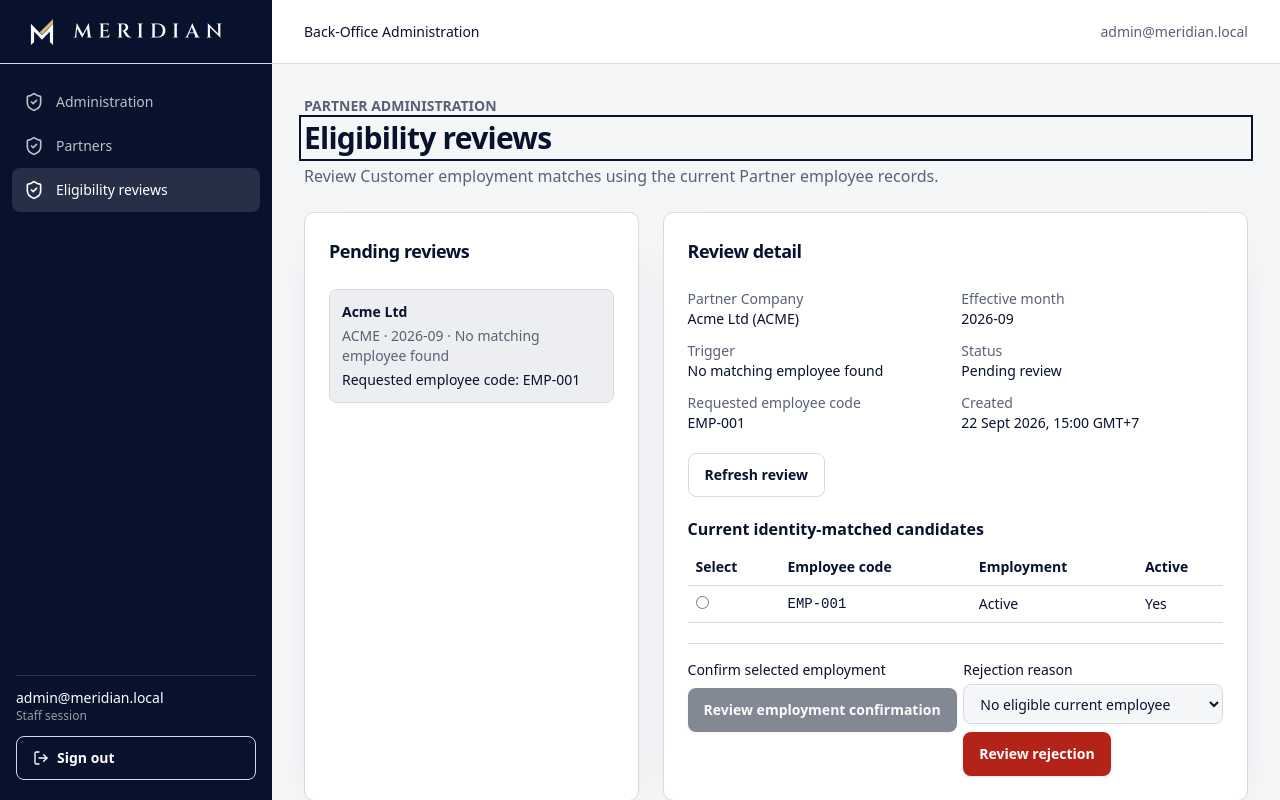
Test: Partner eligibility review page › confirms safe approval facts before sending the existing decision body
Click the radio button named "Select EMP-001".
click(702, 602)  # box [696,596,708,609]
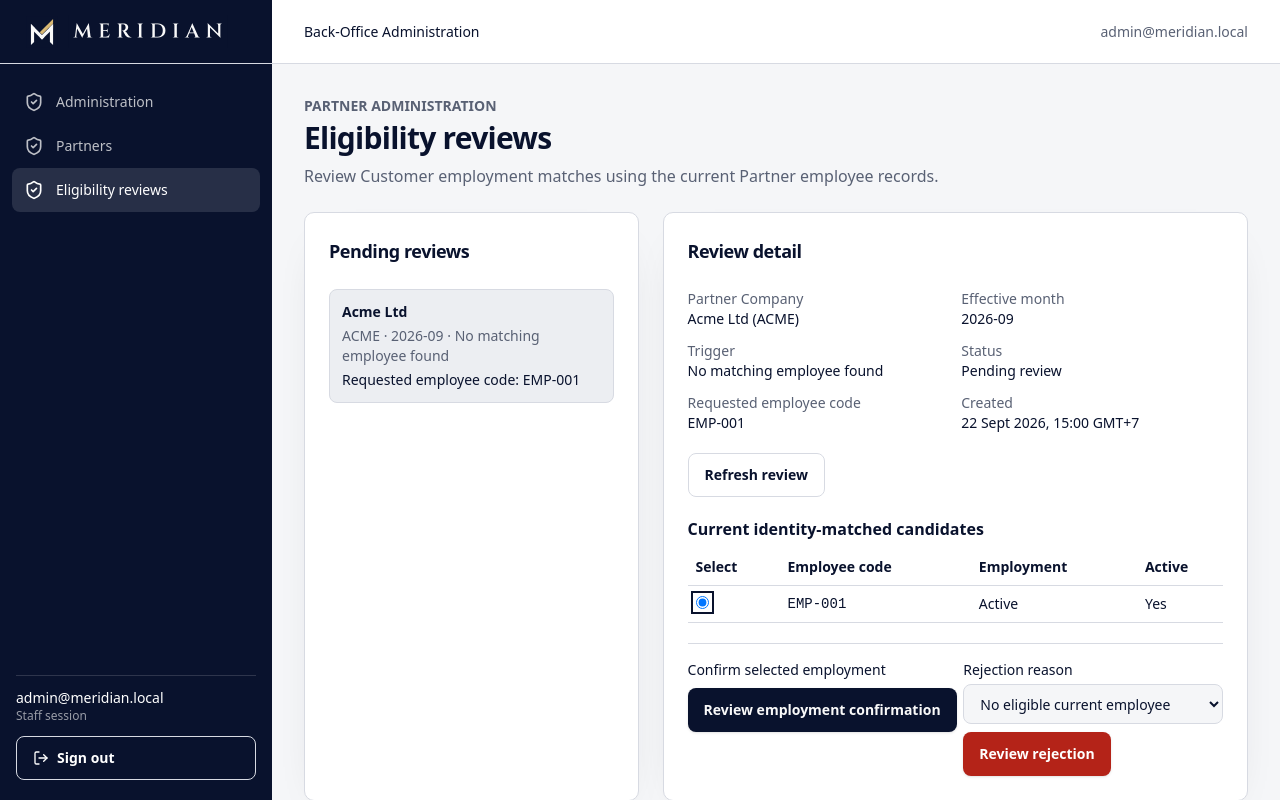
Click the button "Review employment confirmation".
click(822, 710)  # box [688,688,957,732]
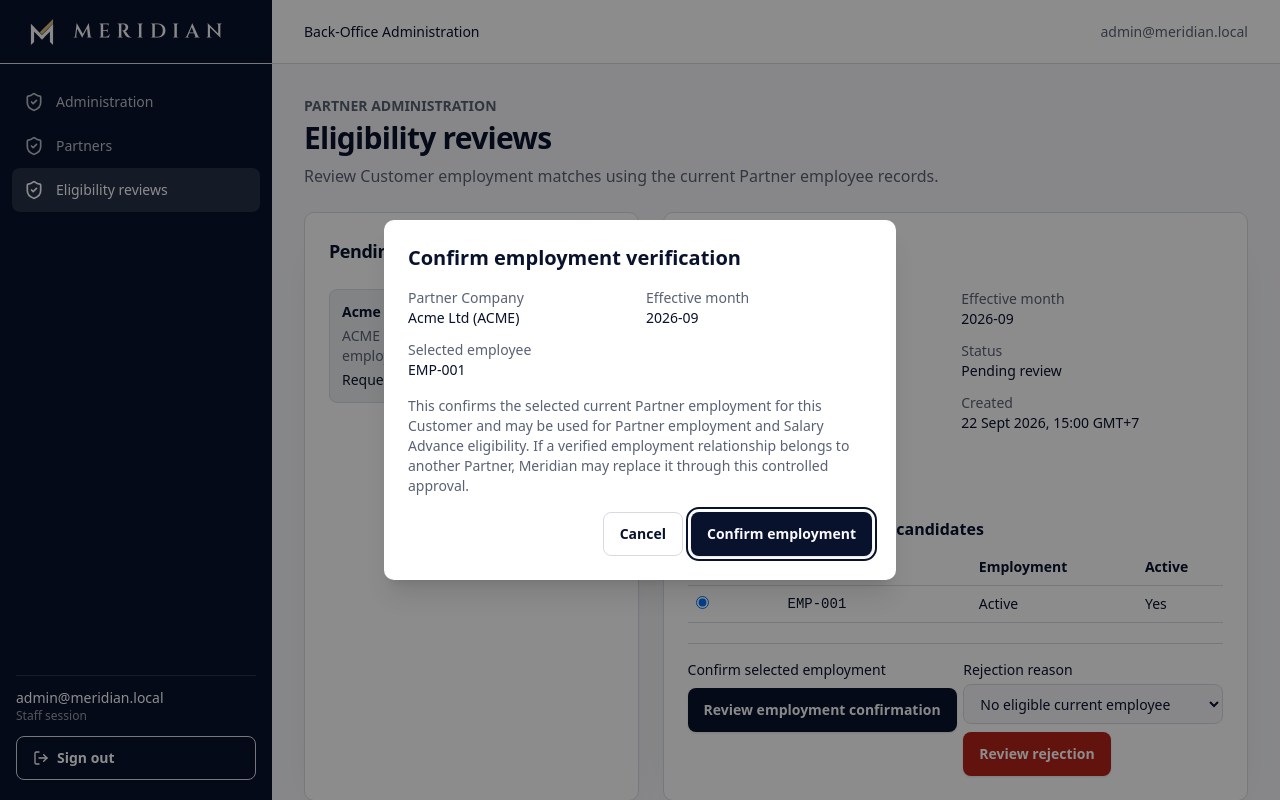
Now the dialog "Confirm employment verification" is shown, box [384,220,896,580]
Now the text "Acme Ltd (ACME)" is shown, box [408,308,519,327]
Now the text "EMP-001" is shown, box [408,360,466,379]
Click the button "Cancel".
click(643, 534)  # box [603,512,683,556]
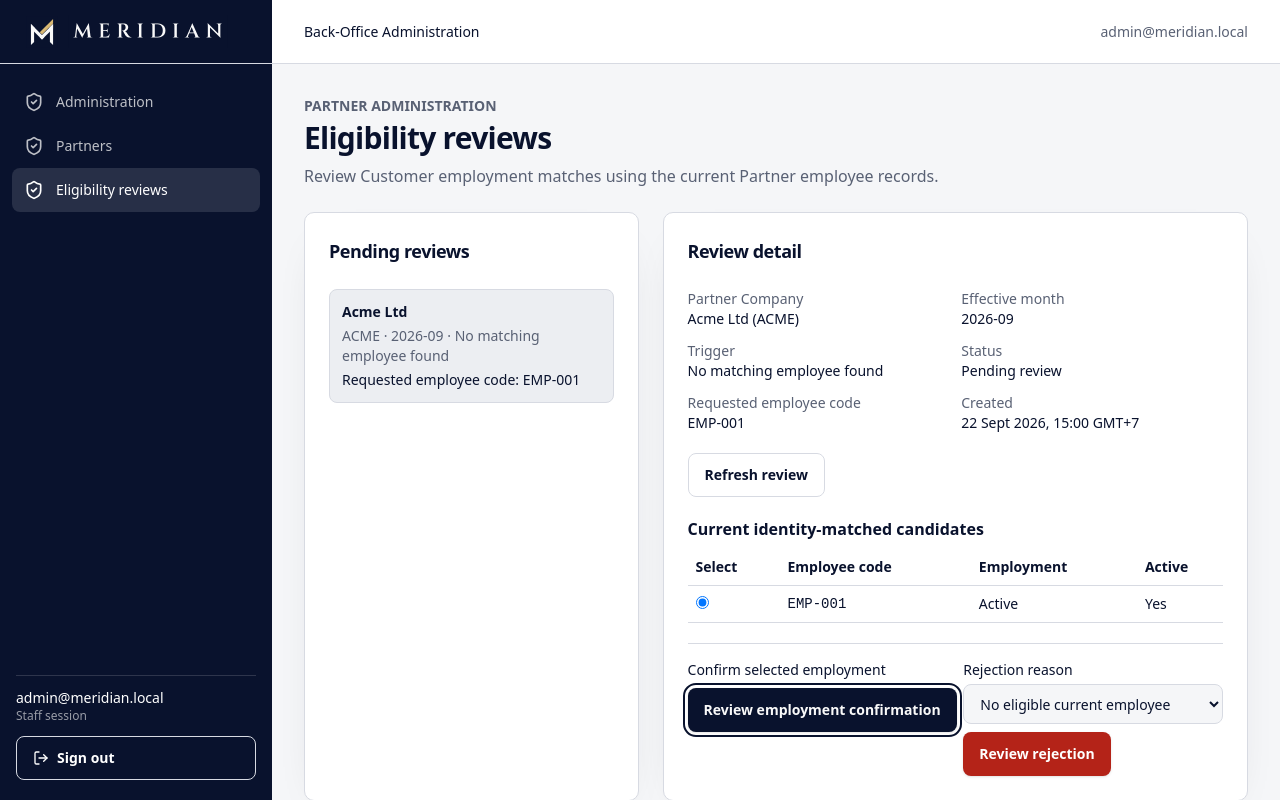
Click the button "Review employment confirmation".
click(822, 710)  # box [688,688,957,732]
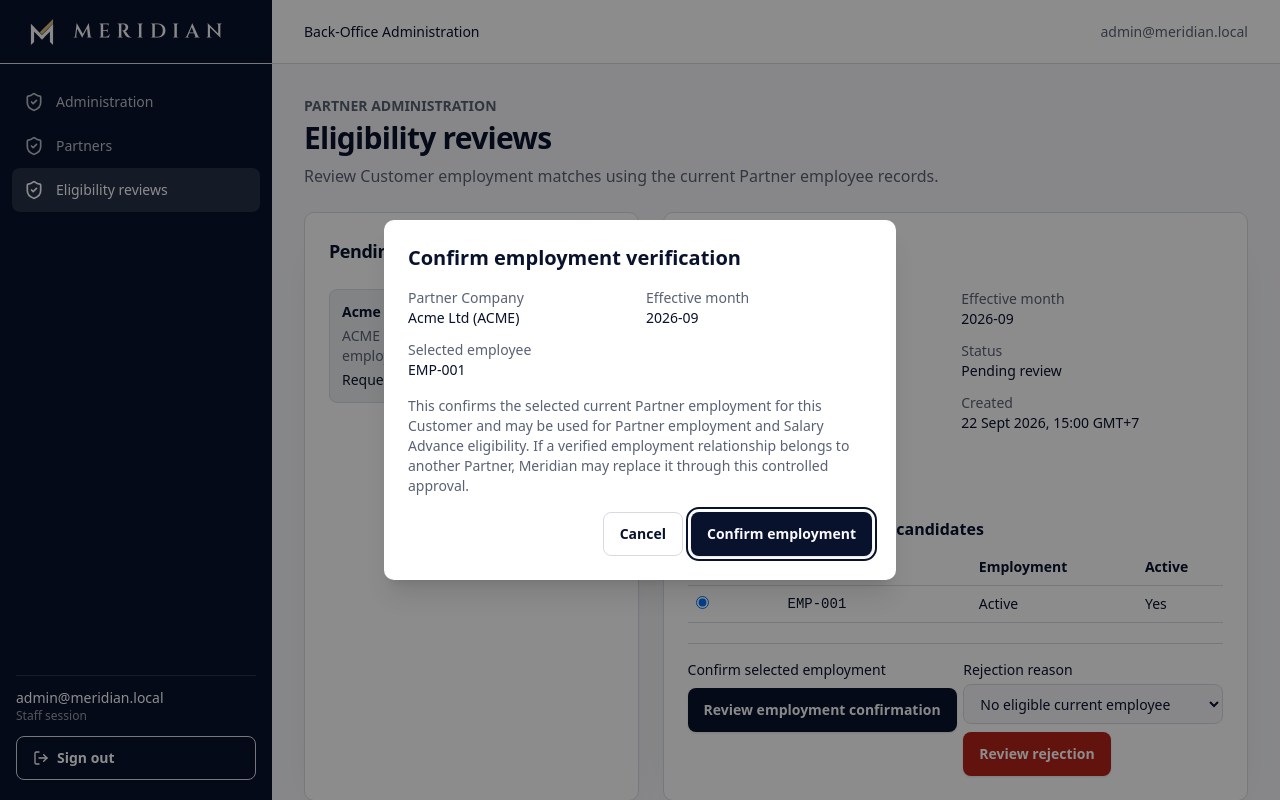
Click the button "Confirm employment".
click(782, 534)  # box [691,512,872,556]
(page scrolled)
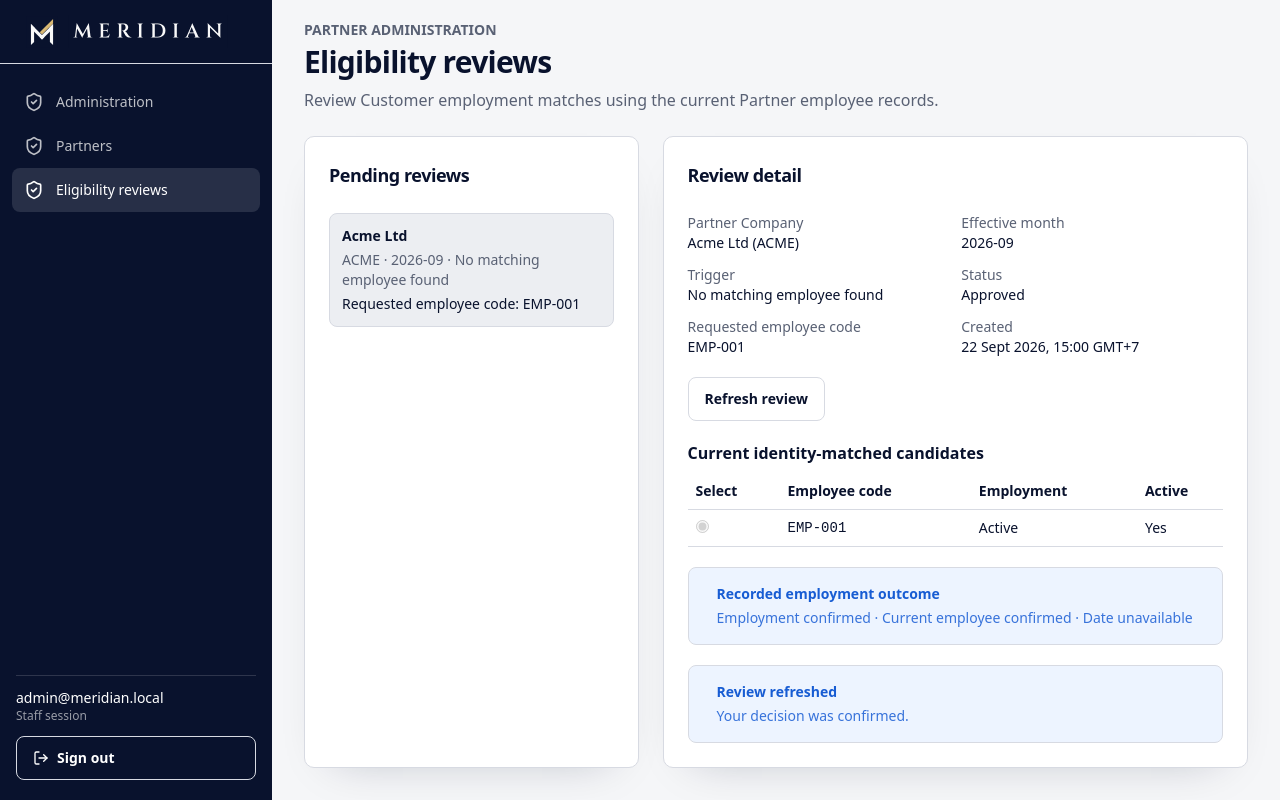
Now the text "Your decision was confirmed." is shown, box [716,706,909,725]
